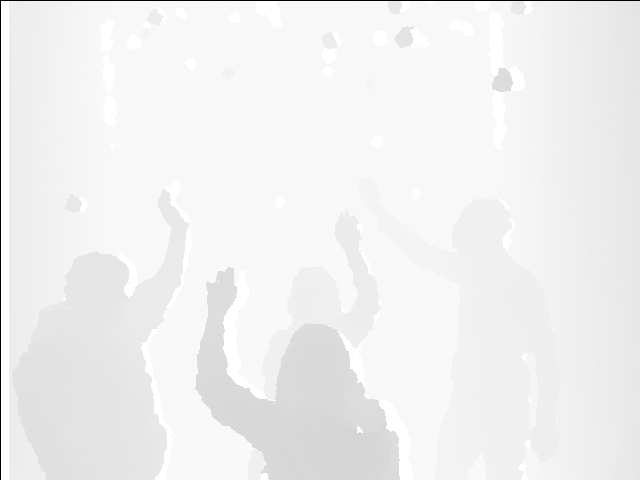hand: (203, 266, 242, 317), (153, 189, 189, 232), (337, 206, 364, 251), (359, 180, 388, 214)
